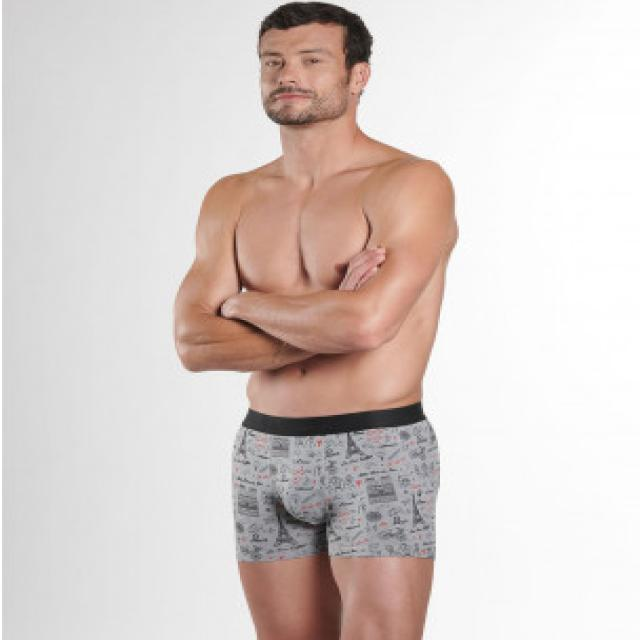mobile_phonerotation: (168, 0, 461, 638)
